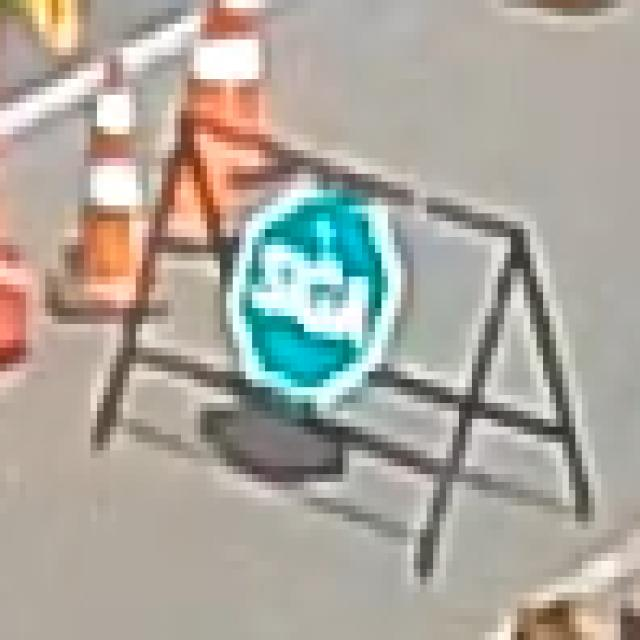go_sign: (220, 182, 414, 427)
small_cone: (39, 47, 149, 324), (181, 0, 284, 221)
